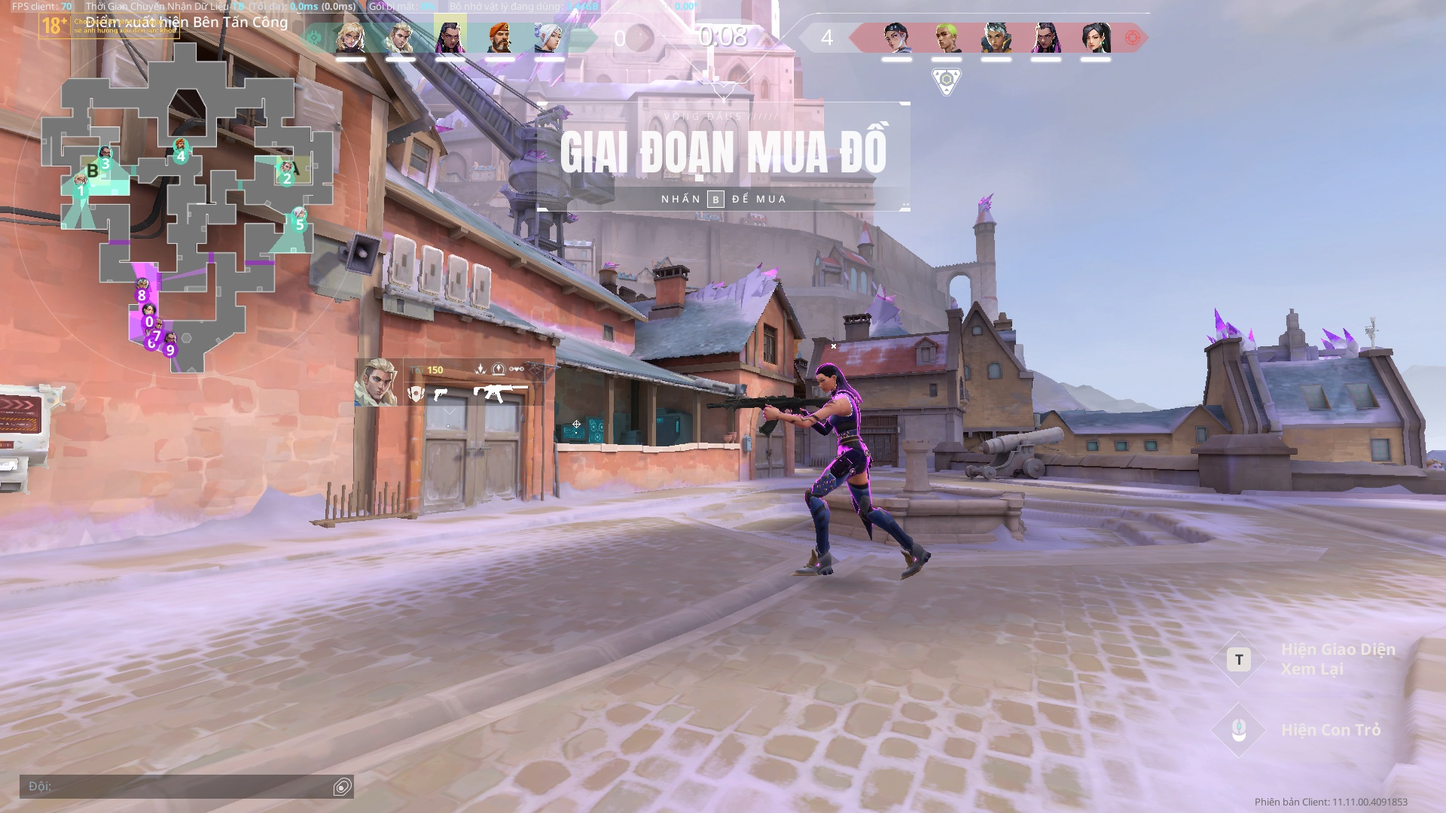body: (825, 390, 863, 439)
head: (813, 361, 840, 391)
